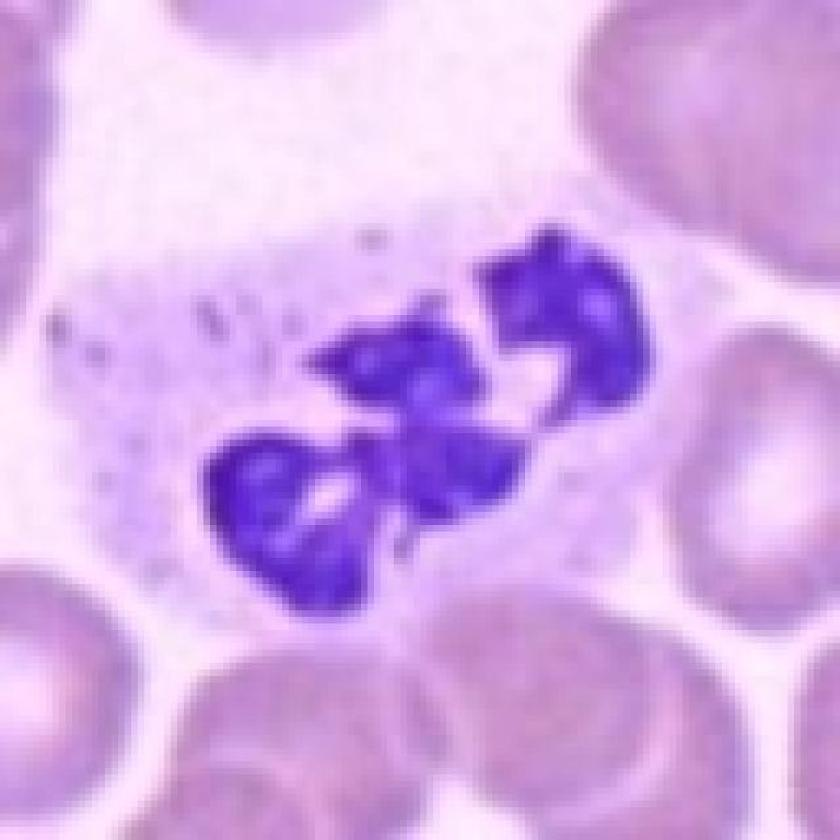neutrophil: (37, 189, 709, 673)
